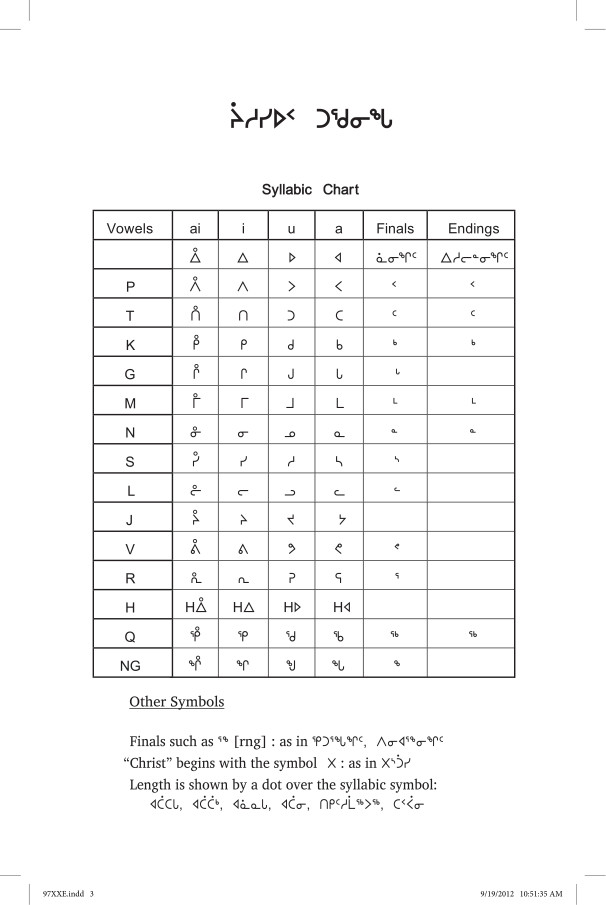inuktitut: (214, 90, 401, 132)
